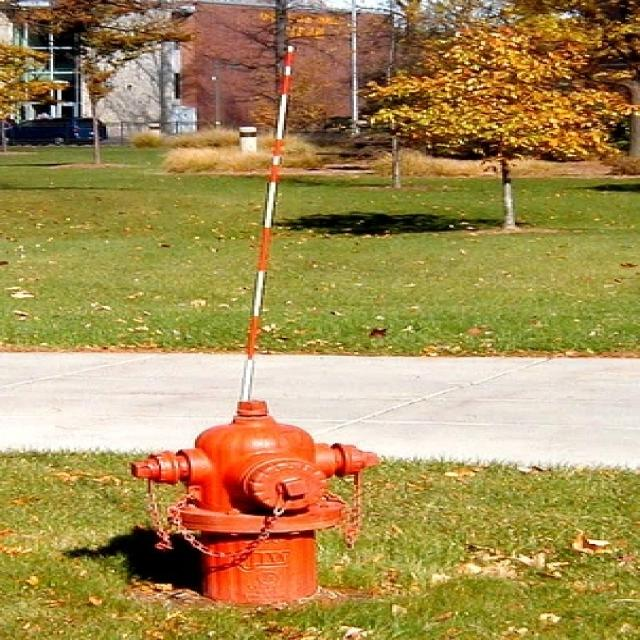fire_hydrant: (90, 378, 402, 640)
